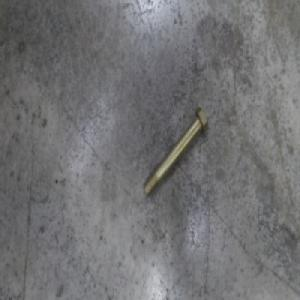Bolt: (142, 105, 209, 198)
